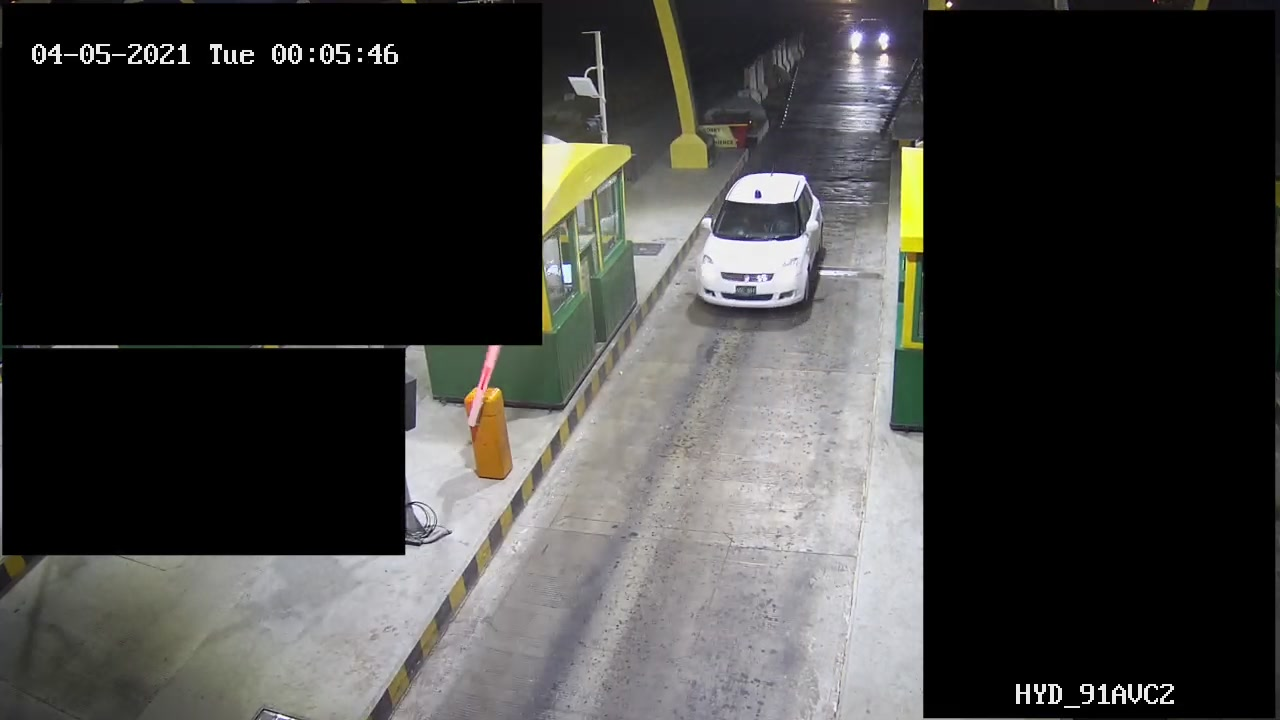F1: (677, 163, 833, 323)
